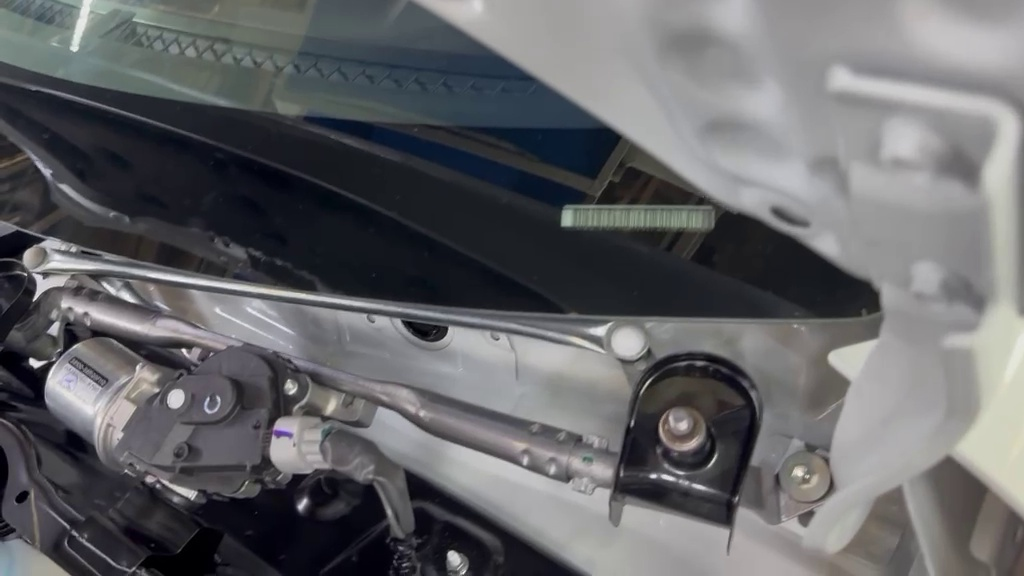barcode: (581, 340, 777, 568)
hinge: (541, 197, 742, 248)
